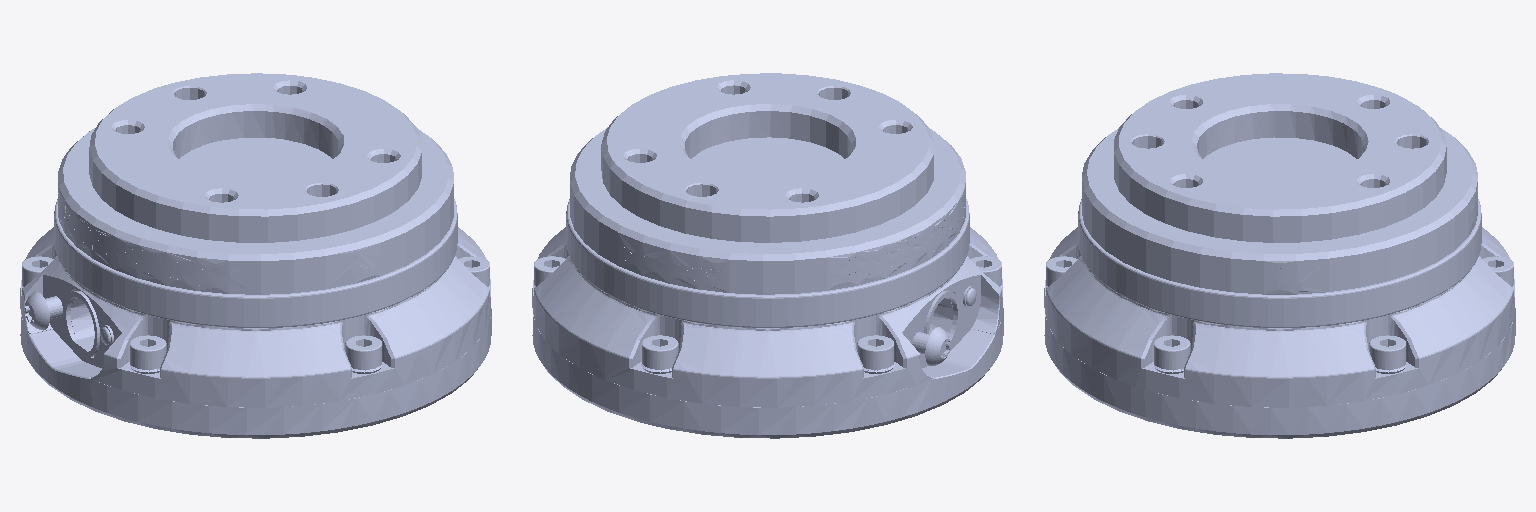
The robot description file, URDF, robot "FTS300":
<?xml version="1.0" encoding="utf-8"?>
<!-- This URDF was automatically created by SolidWorks to URDF Exporter! Originally created by [author] ([email redacted]) 
     Commit Version: 1.5.1-0-g916b5db  Build Version: 1.5.7152.31018
     For more information, please see http://wiki.ros.org/sw_urdf_exporter -->
<robot
  name="FTS300">
  <link
    name="ft300_base_link">
    <inertial>
      <origin
        xyz="0.0010572 -4.2533E-05 0.0090461"
        rpy="0 0 0" />
      <mass
        value="0.087057" />
      <inertia
        ixx="5.0078E-05"
        ixy="1.5999E-07"
        ixz="4.9014E-07"
        iyy="4.6121E-05"
        iyz="1.9479E-08"
        izz="9.1789E-05" />
    </inertial>
    <visual>
      <origin
        xyz="0 0 0"
        rpy="0 0 0" />
      <geometry>
        <mesh
          filename="package://FTS300/meshes/ft300_base_link.STL" />
      </geometry>
      <material
        name="">
        <color
          rgba="0.79216 0.81961 0.93333 1" />
      </material>
    </visual>
    <collision>
      <origin
        xyz="0 0 0"
        rpy="0 0 0" />
      <geometry>
        <mesh
          filename="package://FTS300/meshes/ft300_base_link.STL" />
      </geometry>
    </collision>
  </link>
  <link
    name="ft300_body_link">
    <inertial>
      <origin
        xyz="-0.00012072 -2.6655E-07 -0.0080141"
        rpy="0 0 0" />
      <mass
        value="0.03538" />
      <inertia
        ixx="1.4211E-05"
        ixy="2.1988E-08"
        ixz="-3.2052E-09"
        iyy="1.3991E-05"
        iyz="-3.4636E-11"
        izz="2.7039E-05" />
    </inertial>
    <visual>
      <origin
        xyz="0 0 0"
        rpy="0 0 0" />
      <geometry>
        <mesh
          filename="package://FTS300/meshes/ft300_body_link.STL" />
      </geometry>
      <material
        name="">
        <color
          rgba="0.79216 0.81961 0.93333 1" />
      </material>
    </visual>
    <collision>
      <origin
        xyz="0 0 0"
        rpy="0 0 0" />
      <geometry>
        <mesh
          filename="package://FTS300/meshes/ft300_body_link.STL" />
      </geometry>
    </collision>
  </link>
  <joint
    name="ft300_body_joint"
    type="fixed">
    <origin
      xyz="0 0 0.0385"
      rpy="0 0 0" />
    <parent
      link="ft300_base_link" />
    <child
      link="ft300_body_link" />
    <axis
      xyz="0 0 0" />
  </joint>
</robot>

--- Facts derived from the render (not from the file) ---
Views: 3 orthographic renders of the robot side by side, from view 1: azimuth 30°, elevation 25°; view 2: azimuth 150°, elevation 25°; view 3: azimuth 270°, elevation 25°.
Model FTS300 with 2 links and 1 joints (1 fixed), rooted at ft300_base_link, posed every joint at zero.
Visible links, largest first — view 1: ft300_body_link, ft300_base_link; view 2: ft300_body_link, ft300_base_link; view 3: ft300_body_link, ft300_base_link.
Link boxes in pixels (x1,y1,x2,y2): ft300_body_link: [54, 73, 457, 327]; ft300_base_link: [20, 227, 491, 438]; ft300_body_link: [566, 73, 969, 327]; ft300_base_link: [532, 227, 1003, 438]; ft300_body_link: [1078, 73, 1481, 327]; ft300_base_link: [1044, 227, 1515, 438].
Size in the robot's own frame: 0.089 by 0.089 by 0.0422 metres.
2 mesh visuals loaded from 2 distinct referenced files (2 binary STL).